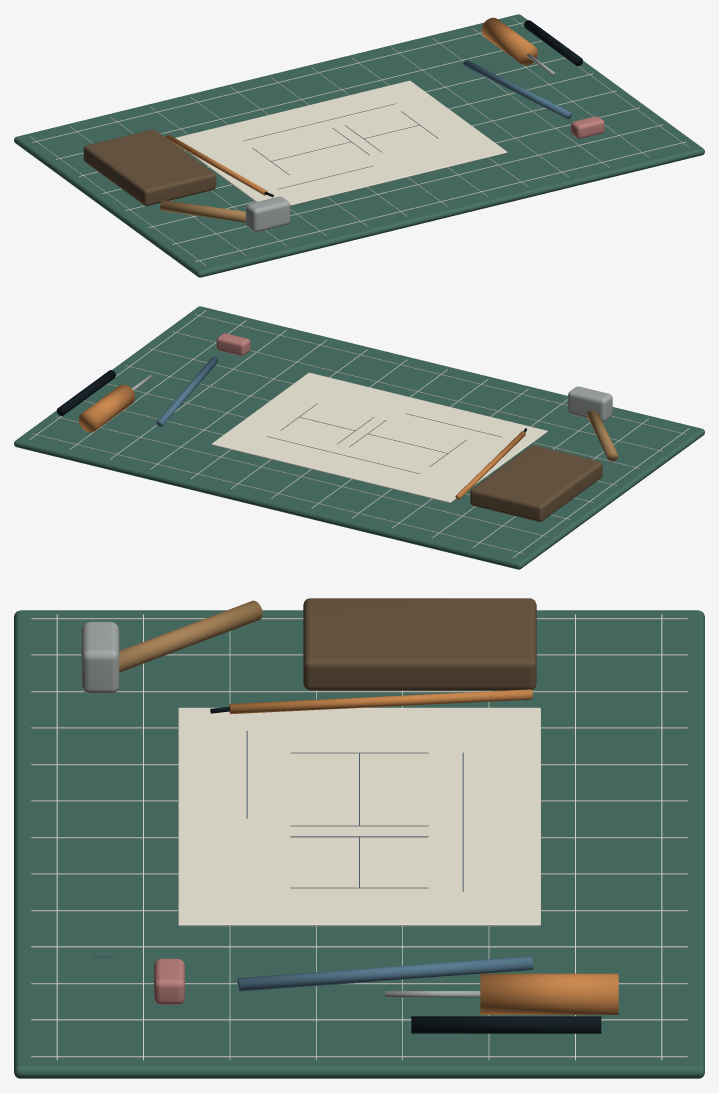
Rendered from drafting_kit.glb.
The picture shows the model from 3 angles, top to bottom: view 1: azimuth 30°, elevation 25°; view 2: azimuth 150°, elevation 25°; view 3: azimuth 270°, elevation 25°; orthographic projection. The views are drawn at different scales.
Parts seen in each view (by area): view 1: drafting_kit_Mesh; view 2: drafting_kit_Mesh; view 3: drafting_kit_Mesh.
Boxes of the visible parts, box(x1,y1,x2,y2) form: drafting_kit_Mesh: box(14, 14, 704, 277); drafting_kit_Mesh: box(14, 306, 704, 569); drafting_kit_Mesh: box(14, 598, 704, 1078).
Size of the model in its own units: 0.63 by 0.044 by 0.4.
